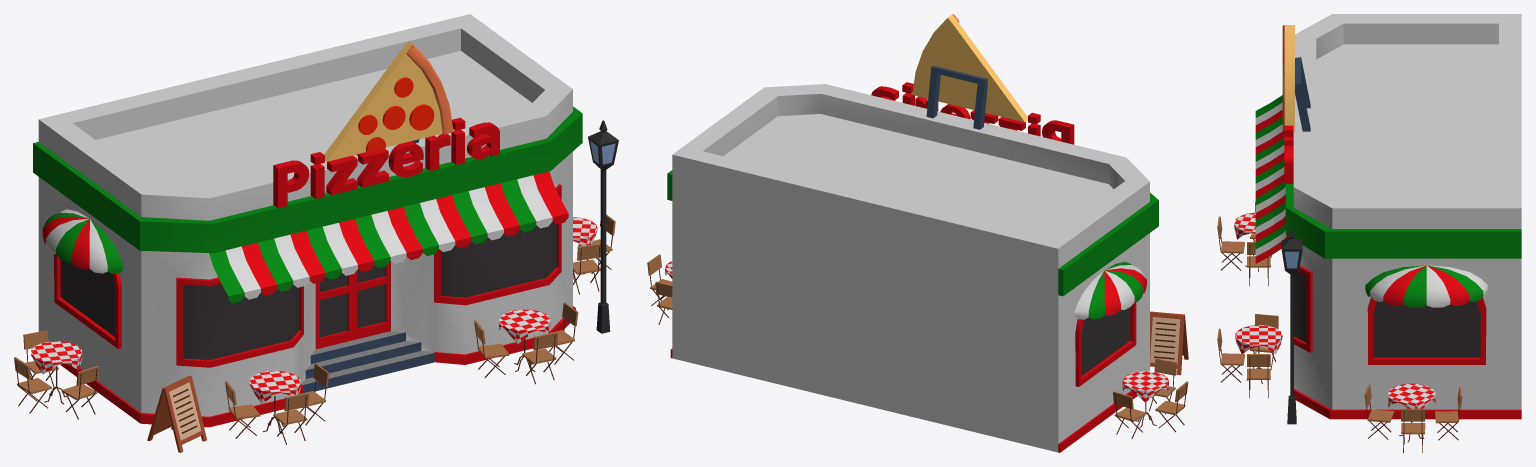
The model's file is restaurant.glb.
The picture shows the model from 3 angles, left to right: view 1: azimuth 30°, elevation 25°; view 2: azimuth 150°, elevation 25°; view 3: azimuth 270°, elevation 25°; orthographic projection. The views are drawn at different scales.
Parts seen in each view (by area): view 1: PizzaBuilding, PizzaTables, PizzaBoard, PizzaLight; view 2: PizzaBuilding, PizzaTables, PizzaBoard; view 3: PizzaBuilding, PizzaTables, PizzaLight.
Boxes of the visible parts, box(x1,y1,x2,y2) form: PizzaBuilding: box(33, 14, 582, 427); PizzaTables: box(14, 214, 615, 444); PizzaBoard: box(147, 375, 206, 452); PizzaLight: box(588, 120, 618, 333); PizzaBuilding: box(667, 14, 1158, 452); PizzaTables: box(647, 254, 1188, 438); PizzaBoard: box(1150, 311, 1188, 375); PizzaBuilding: box(1255, 14, 1521, 419); PizzaTables: box(1217, 202, 1462, 452); PizzaLight: box(1281, 228, 1302, 424).
Size of what is drawn, in the model's own units: 6.03 by 3.27 by 2.91.
1 material, 1 textured.
